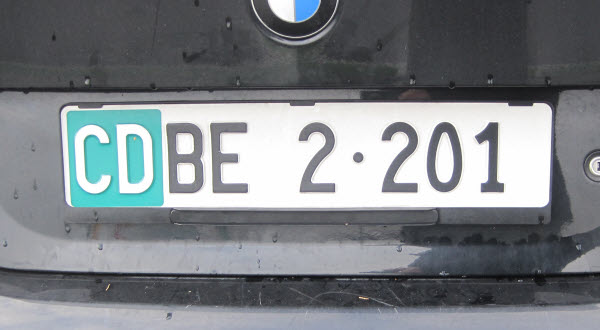license_plate: (60, 102, 553, 209)
